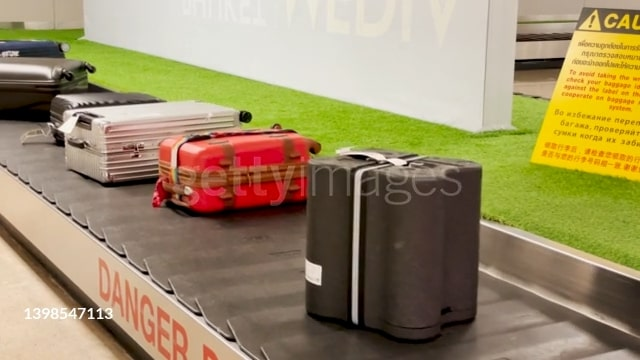baggage: (302, 149, 489, 344), (62, 100, 255, 185), (152, 125, 319, 220), (44, 90, 164, 148), (1, 55, 99, 121)
